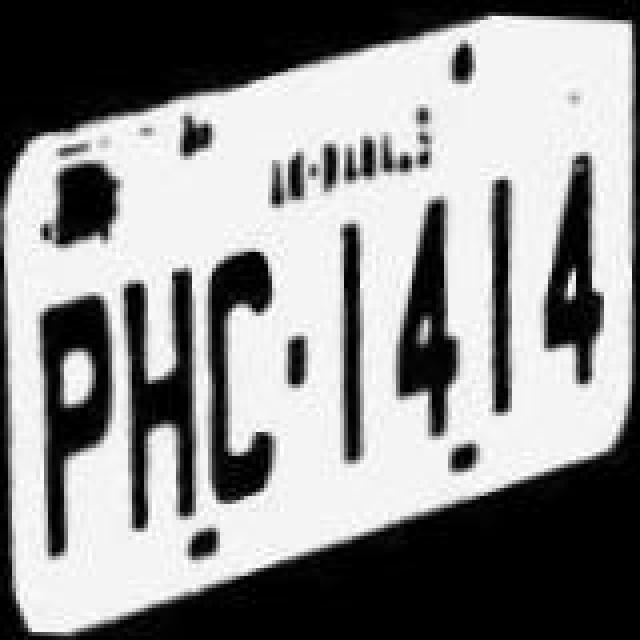1: (316, 218, 376, 506), (470, 150, 526, 434)
4: (524, 130, 608, 410), (380, 188, 468, 444)
C: (196, 234, 288, 510)
H: (116, 242, 208, 518)
P: (18, 276, 118, 580)
